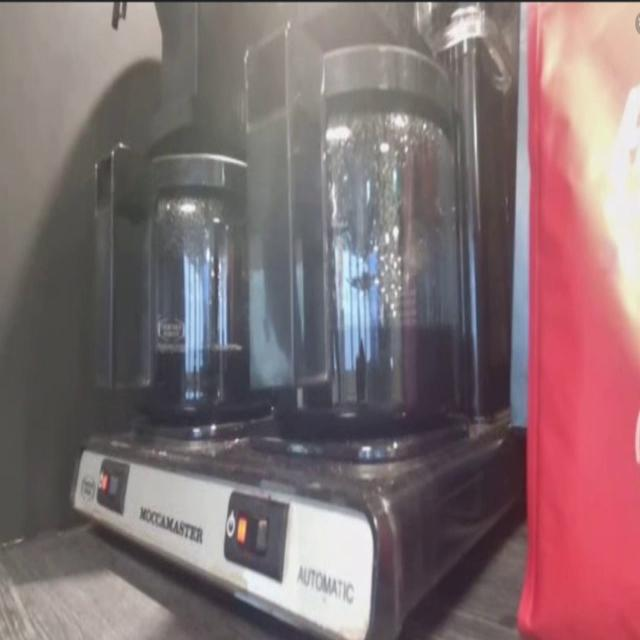coffee: (251, 22, 482, 457), (118, 109, 286, 432)
